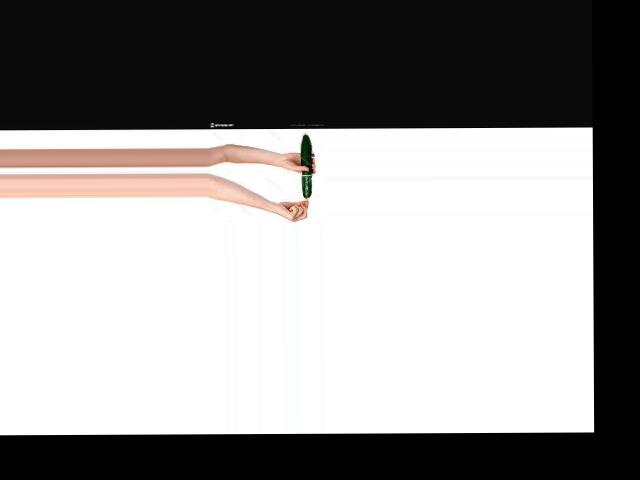cucumber: (302, 132, 312, 198)
